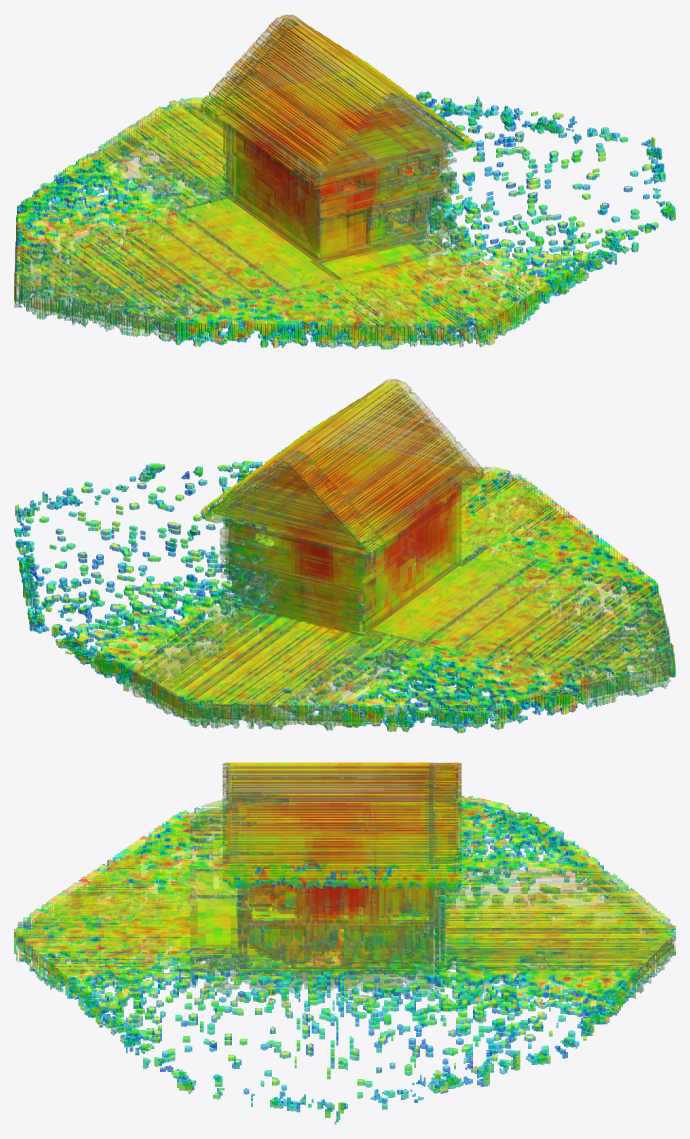
The model's file is house_out.glb.
3 renders of one model, top to bottom at view 1: azimuth 30°, elevation 25°; view 2: azimuth 150°, elevation 25°; view 3: azimuth 270°, elevation 25°, orthographic. The views are drawn at different scales.
Parts seen in each view (by area): view 1: chunk:4, chunk:1, chunk:5, chunk:3, chunk:0, chunk:7, chunk:8, chunk:2, chunk:6, chunk:10; view 2: chunk:3, chunk:4, chunk:1, chunk:0, chunk:6, chunk:5, chunk:7, chunk:2, chunk:10, chunk:8; view 3: chunk:4, chunk:3, chunk:5, chunk:7, chunk:6, chunk:0, chunk:8, chunk:2, chunk:1, chunk:10.
Boxes of the visible parts, box(x1,y1,x2,y2) form: chunk:4: box(172, 23, 477, 307); chunk:1: box(14, 211, 283, 341); chunk:5: box(285, 245, 539, 349); chunk:3: box(92, 14, 359, 226); chunk:0: box(15, 153, 171, 266); chunk:7: box(367, 64, 661, 265); chunk:8: box(480, 205, 675, 309); chunk:2: box(173, 293, 327, 347); chunk:6: box(355, 55, 561, 166); chunk:10: box(568, 116, 672, 207); chunk:3: box(127, 452, 425, 730); chunk:4: box(225, 379, 541, 661); chunk:1: box(427, 560, 675, 708); chunk:0: box(343, 645, 586, 733); chunk:6: box(19, 494, 225, 691); chunk:5: box(448, 466, 585, 582); chunk:7: box(26, 420, 323, 616); chunk:2: box(543, 527, 658, 604); chunk:10: box(14, 481, 126, 560); chunk:8: box(140, 460, 262, 499); chunk:4: box(190, 762, 433, 995); chunk:3: box(433, 762, 675, 994); chunk:5: box(14, 868, 190, 995); chunk:7: box(190, 864, 433, 1093); chunk:6: box(433, 864, 637, 1093); chunk:0: box(439, 794, 607, 893); chunk:8: box(59, 970, 190, 1093); chunk:2: box(97, 810, 190, 889); chunk:1: box(190, 798, 265, 892); chunk:10: box(213, 1075, 425, 1124).
Bounding box in the file's own units: 47.82 × 12.96 × 40.02.
11 materials, 11 textured.
